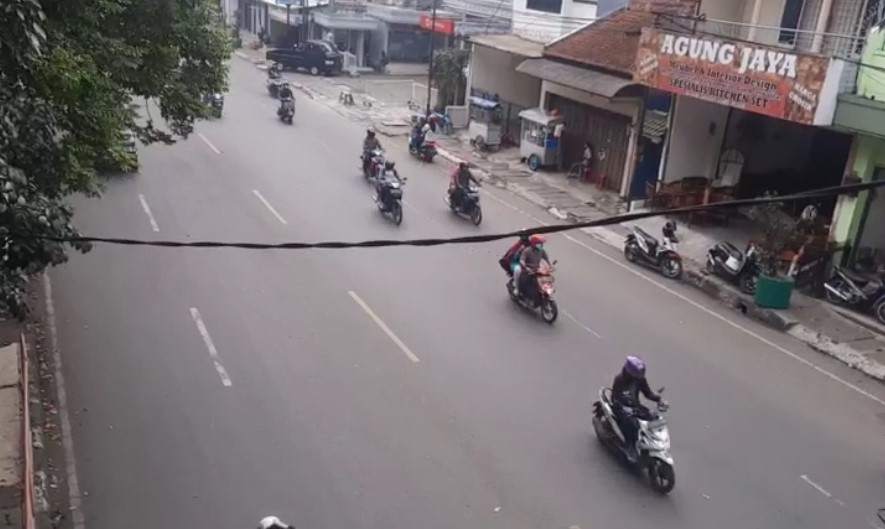motor: (583, 350, 682, 489), (489, 215, 560, 326), (441, 164, 486, 224), (372, 168, 408, 224), (356, 127, 388, 174)
